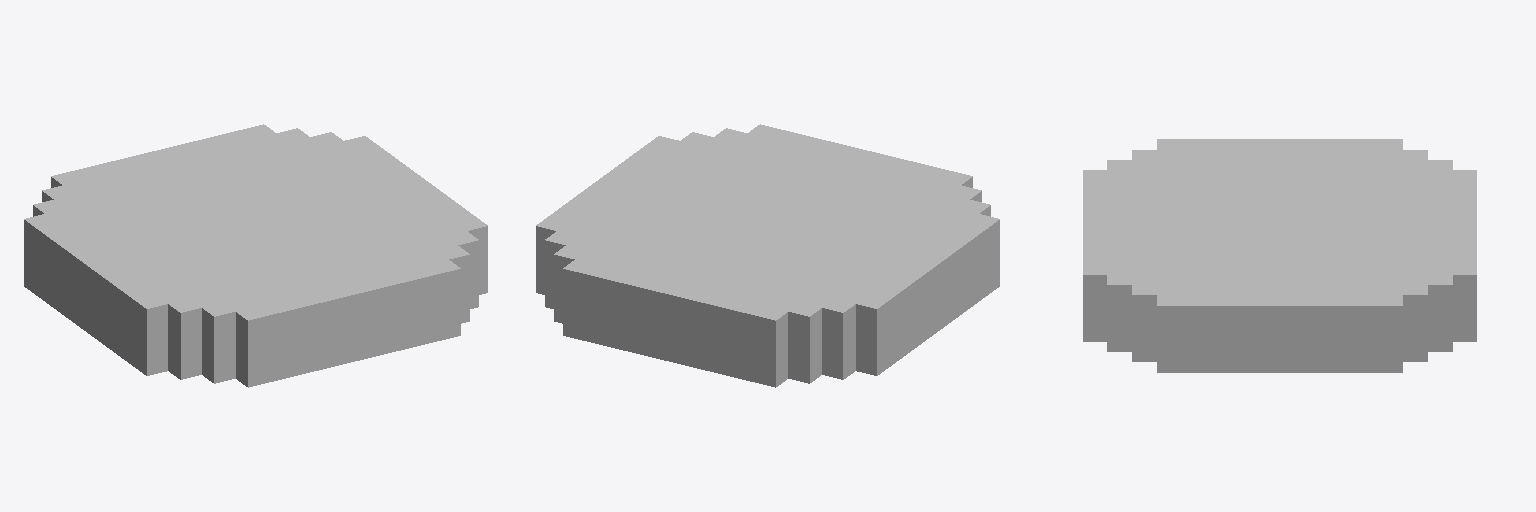
Rendered from Meat.obj.
3 views of the same model, side by side, from view 1: azimuth 30°, elevation 25°; view 2: azimuth 150°, elevation 25°; view 3: azimuth 270°, elevation 25° (orthographic).
Parts seen in each view (by area): view 1: object 1; view 2: object 1; view 3: object 1.
Part boxes in pixels (left/top/right/bottom): object 1: left=24, top=124, right=487, bottom=387; object 1: left=536, top=124, right=999, bottom=387; object 1: left=1083, top=139, right=1476, bottom=372.
Size of the model in its own units: 1.6 by 0.3 by 1.6.